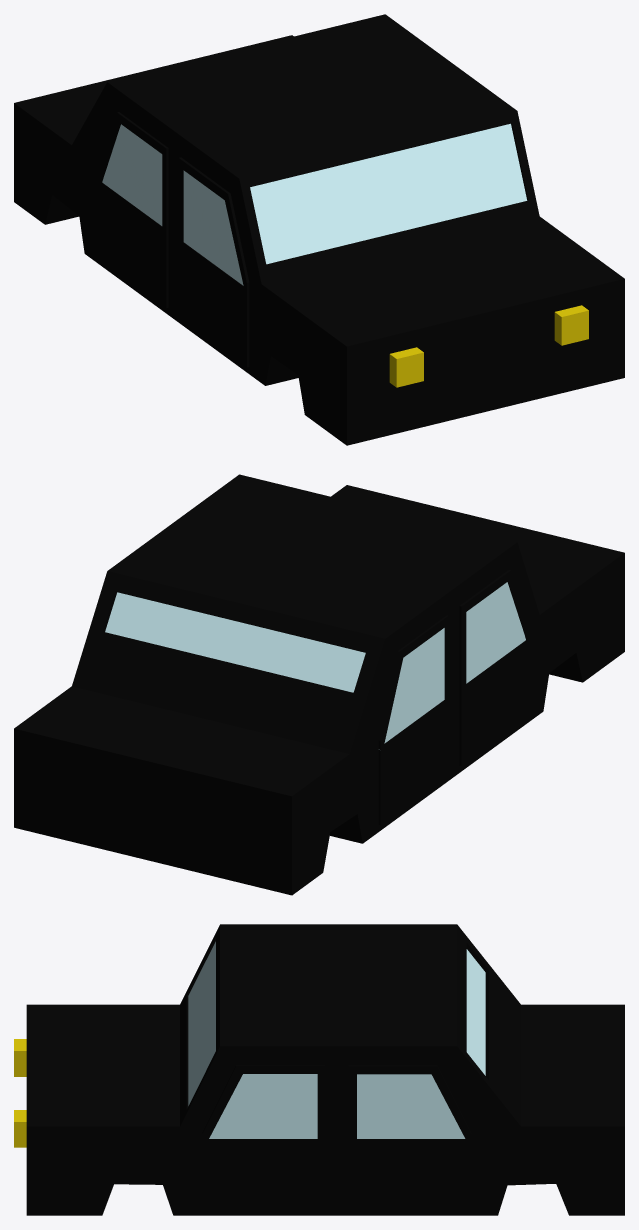
Rendered from Coche Negro.fbx.
3 views of the same model, one above another, from view 1: azimuth 30°, elevation 25°; view 2: azimuth 150°, elevation 25°; view 3: azimuth 270°, elevation 25° (orthographic). The views are drawn at different scales.
Parts seen in each view (by area): view 1: Cube, Cube.010, Cube.004, Cube.005, Cube.009, Cube.008, Cube.002; view 2: Cube, Cube.011, Cube.004, Cube.005, Cube.009, Cube.008; view 3: Cube, Cube.001, Cube.003, Cube.006, Cube.007, Cube.010, Cube.011, Cube.002.
Boxes of the visible parts, x1=… form: Cube: x1=14, y1=14, x2=624, y2=445; Cube.010: x1=250, y1=123, x2=527, y2=264; Cube.004: x1=178, y1=157, x2=249, y2=367; Cube.005: x1=98, y1=112, x2=168, y2=307; Cube.009: x1=102, y1=124, x2=162, y2=225; Cube.008: x1=183, y1=170, x2=243, y2=285; Cube.002: x1=389, y1=305, x2=588, y2=387; Cube: x1=14, y1=474, x2=624, y2=895; Cube.011: x1=105, y1=592, x2=365, y2=692; Cube.004: x1=459, y1=570, x2=529, y2=765; Cube.005: x1=378, y1=615, x2=448, y2=825; Cube.009: x1=379, y1=628, x2=444, y2=749; Cube.008: x1=466, y1=582, x2=525, y2=683; Cube: x1=26, y1=924, x2=624, y2=1215; Cube.001: x1=348, y1=1065, x2=471, y2=1209; Cube.003: x1=202, y1=1065, x2=324, y2=1209; Cube.006: x1=209, y1=1074, x2=317, y2=1138; Cube.007: x1=357, y1=1074, x2=465, y2=1138; Cube.010: x1=188, y1=941, x2=215, y2=1105; Cube.011: x1=466, y1=949, x2=485, y2=1075; Cube.002: x1=14, y1=1039, x2=26, y2=1147.
Bounding box in the file's own units: 172 × 109 × 358.
